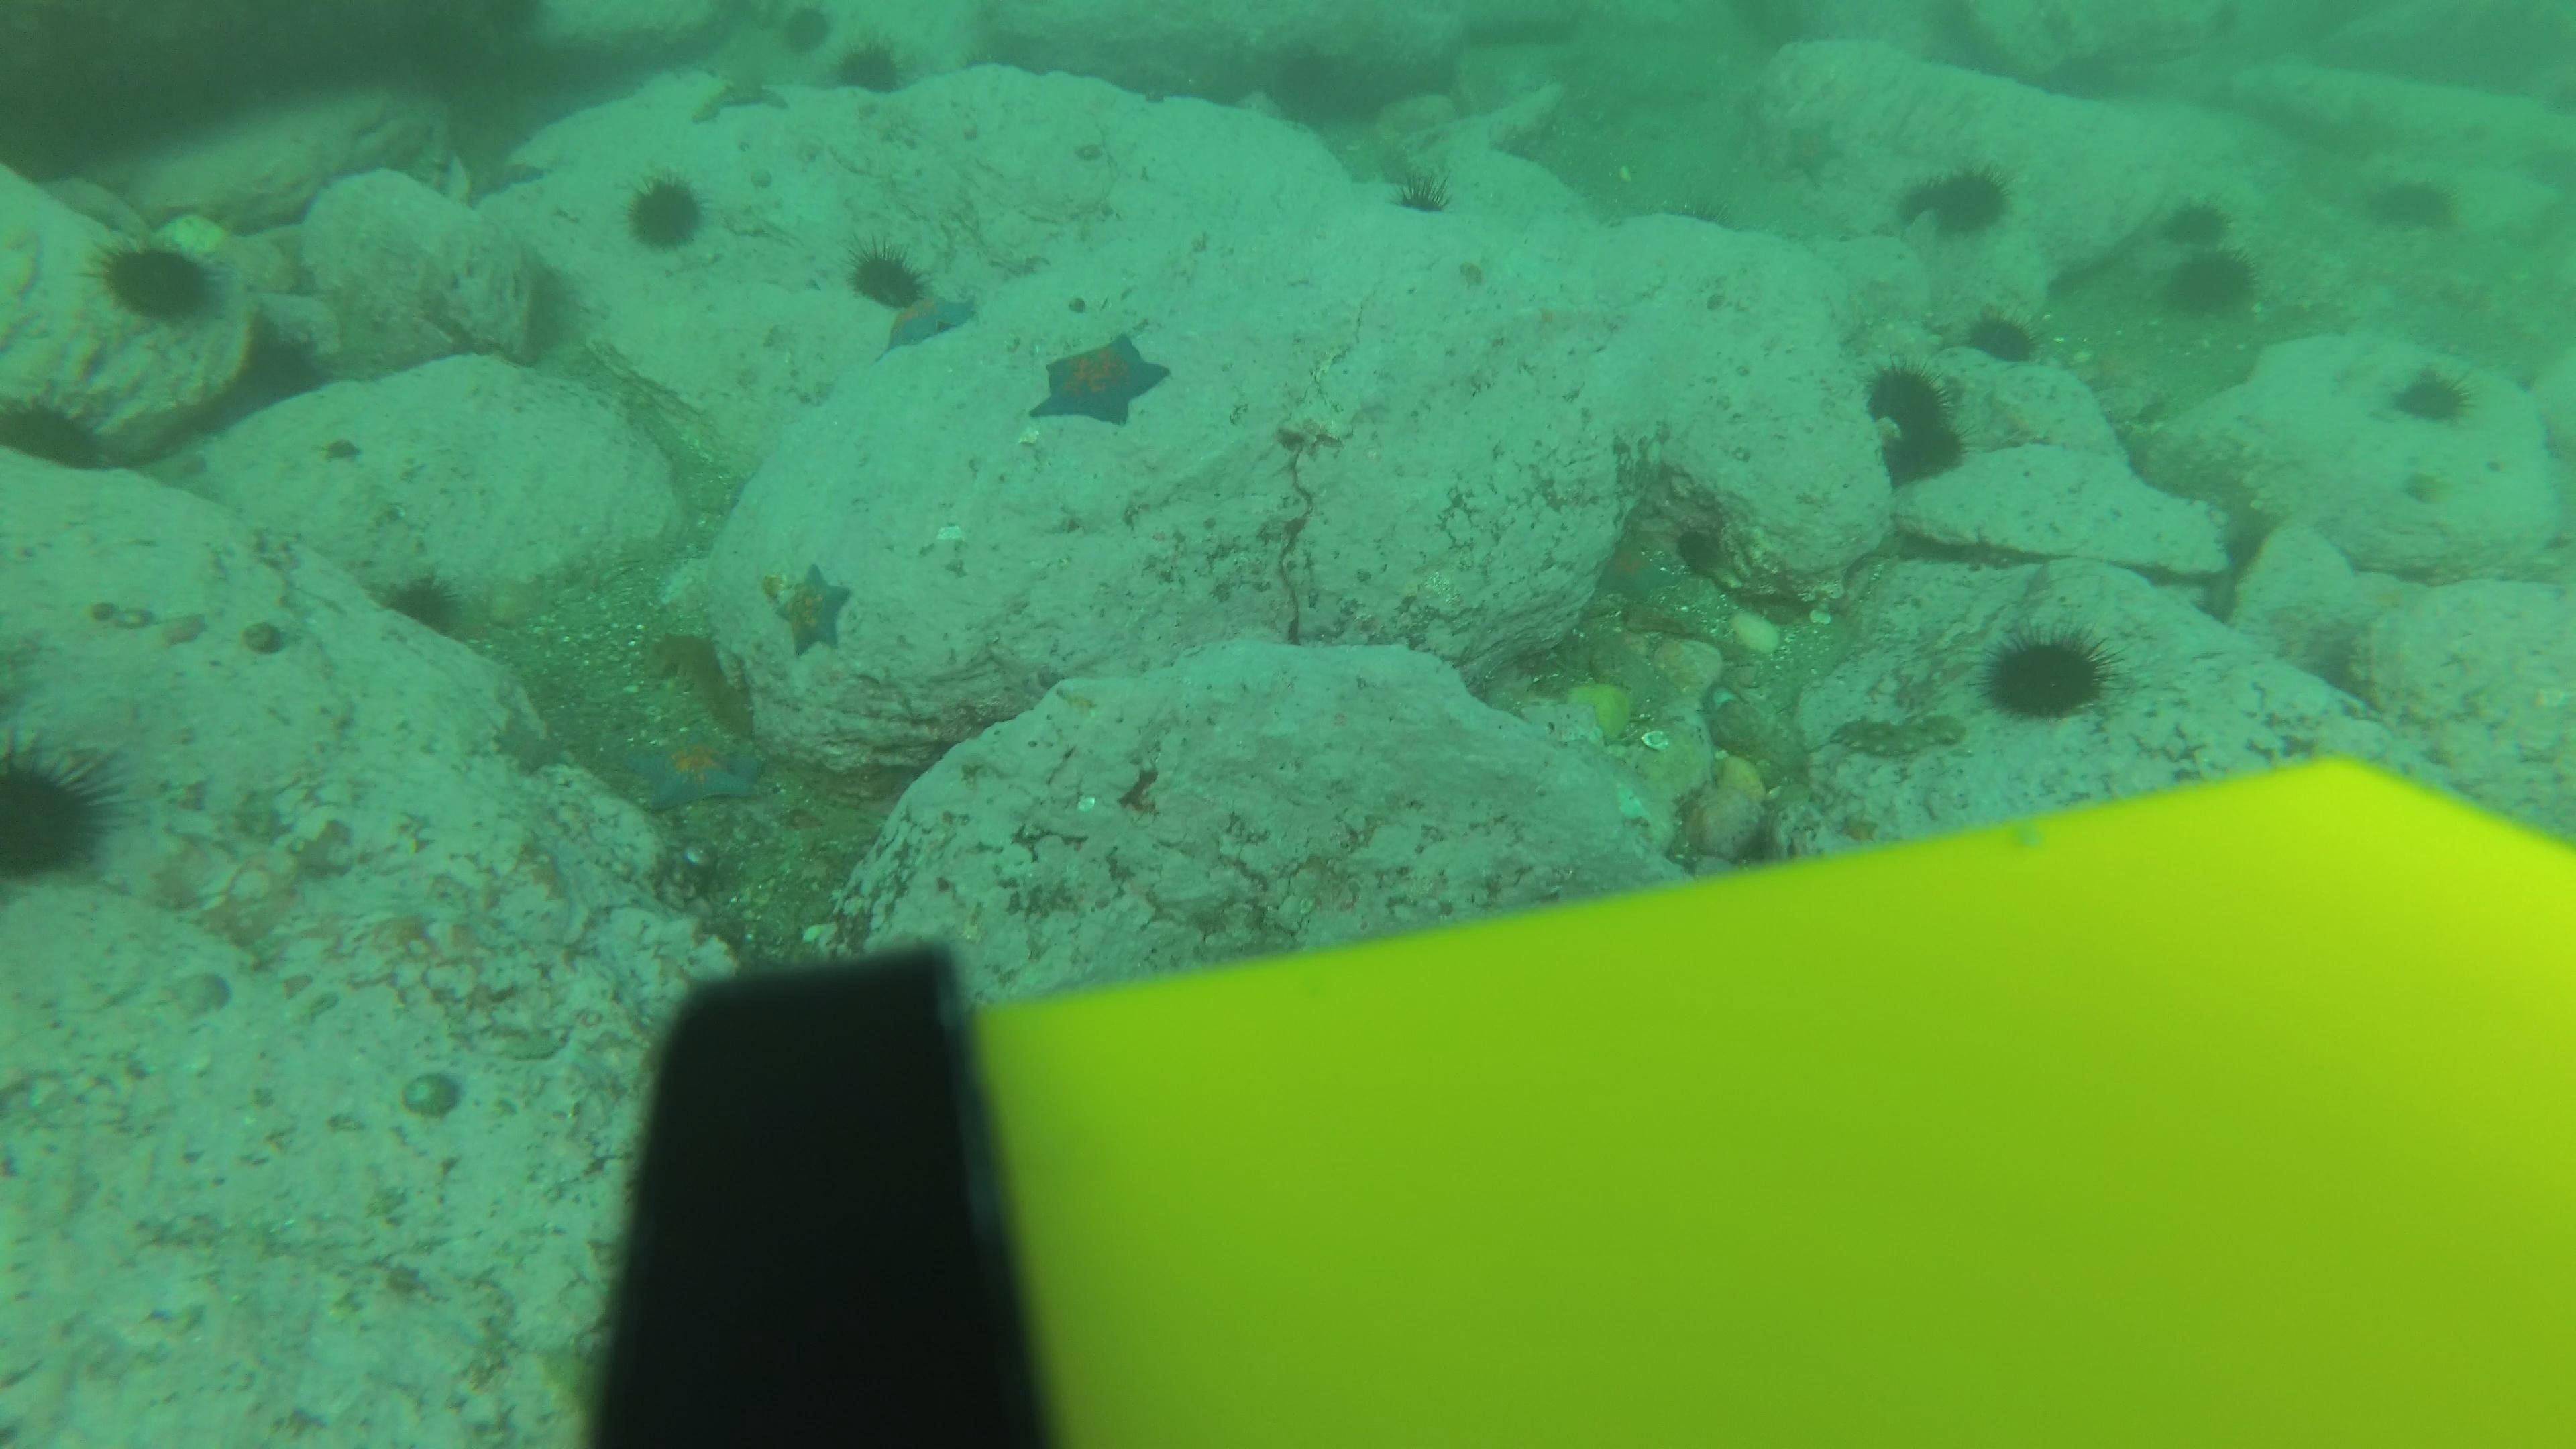echinus: (2, 732, 120, 888), (1980, 621, 2116, 725), (94, 232, 221, 329), (1898, 156, 2015, 242), (2, 384, 110, 476), (2160, 237, 2259, 322), (621, 170, 709, 255), (1870, 410, 1960, 492), (1851, 341, 1941, 423), (2362, 168, 2461, 239), (377, 564, 467, 639), (2160, 191, 2238, 272), (2388, 361, 2477, 430), (846, 239, 929, 311), (764, 0, 846, 65), (955, 30, 1037, 96), (830, 35, 911, 99), (1962, 304, 2042, 368), (1389, 161, 1454, 218)
holothurian: (1826, 711, 1971, 757)
starfish: (1028, 329, 1173, 433), (625, 720, 768, 816), (764, 559, 856, 658), (878, 285, 978, 354), (1592, 529, 1679, 607), (46, 172, 150, 235), (487, 697, 564, 778), (451, 150, 547, 209), (1771, 115, 1845, 188), (702, 65, 789, 119)
